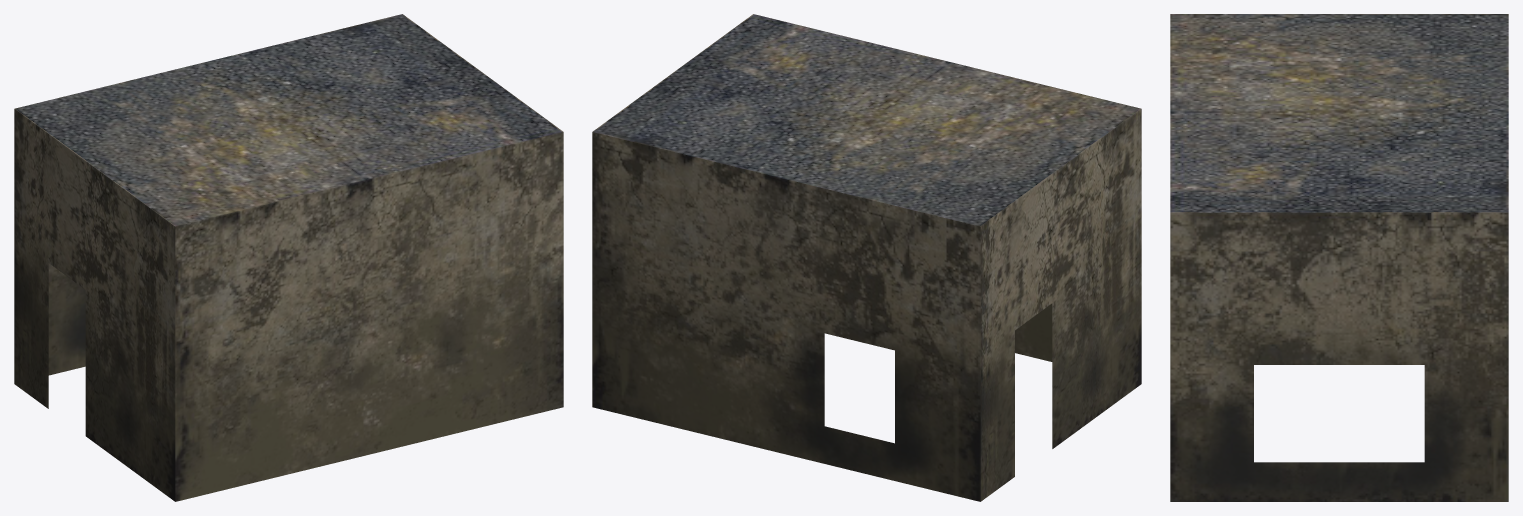
The model's file is RoofBlockout.FBX.
The picture shows the model from 3 angles, left to right: view 1: azimuth 30°, elevation 25°; view 2: azimuth 150°, elevation 25°; view 3: azimuth 270°, elevation 25°; orthographic projection. The views are drawn at different scales.
Parts seen in each view (by area): view 1: RoofBlockout; view 2: RoofBlockout; view 3: RoofBlockout.
Part boxes in pixels (box(x1,y1,x2,y2)): RoofBlockout: box(14, 14, 563, 501); RoofBlockout: box(592, 14, 1141, 501); RoofBlockout: box(1170, 14, 1508, 501).
Bounding box in the file's own units: 755 × 511 × 543.
